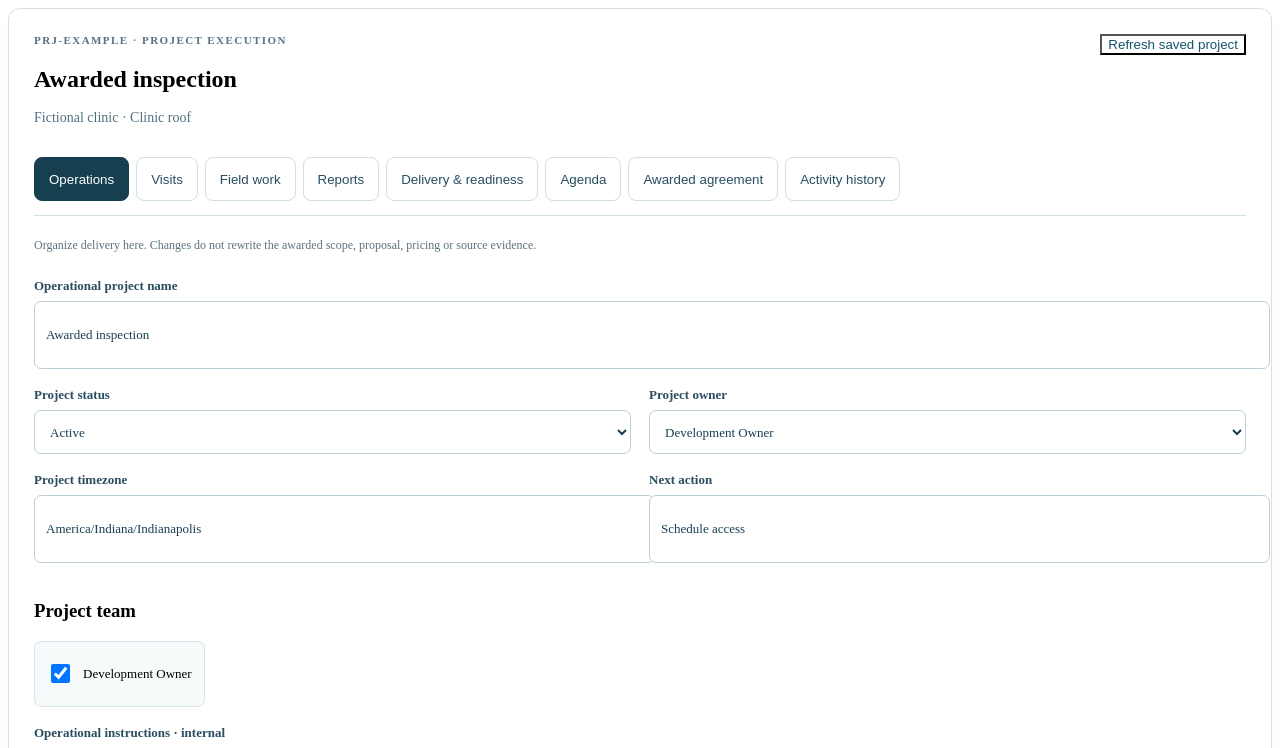
Test case: CPL project execution workspace › loads the real company agenda with timezone-bound date filters
Expected: the field labelled "Operational project name" is shown, left=34, top=301, right=1270, bottom=369
Expected: the button "Refresh saved project" is enabled, left=1100, top=34, right=1246, bottom=55
Click the button "Agenda": (584,179) left=546, top=157, right=622, bottom=201
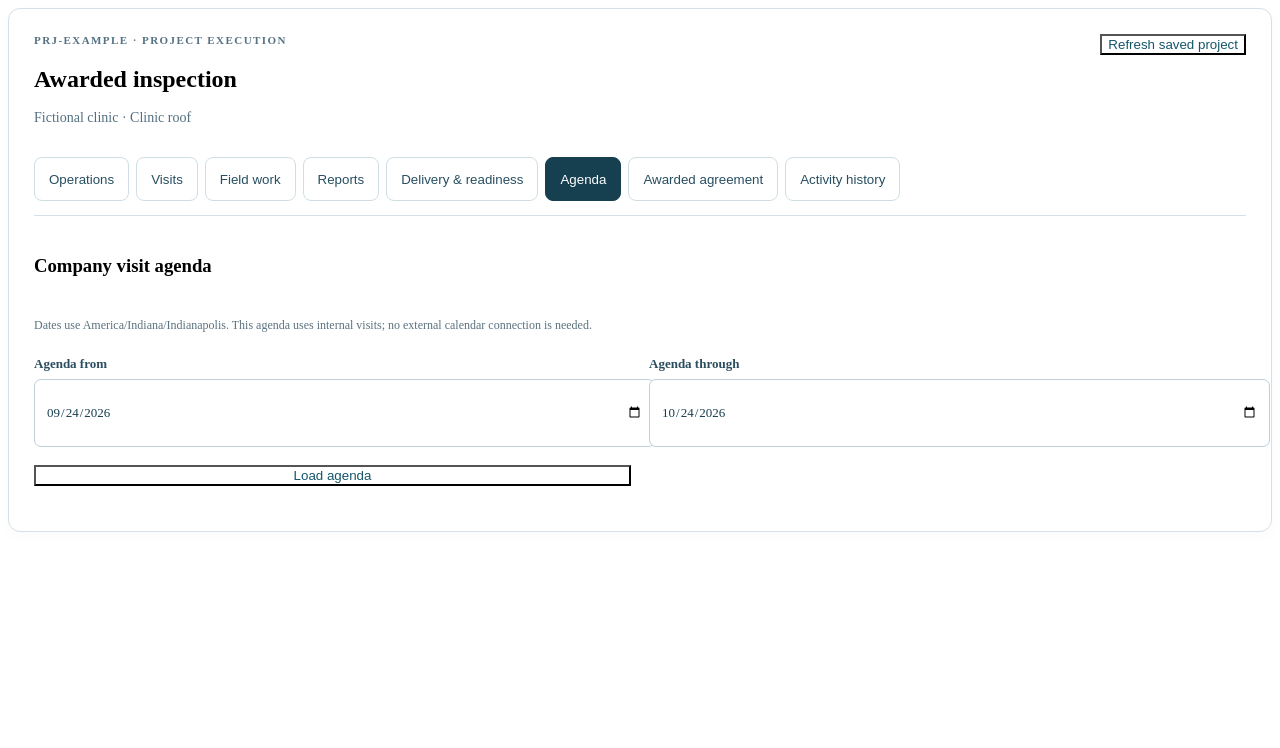
In the date field labelled "Agenda from": (344,412) left=34, top=378, right=655, bottom=446, type "2026-10-05"
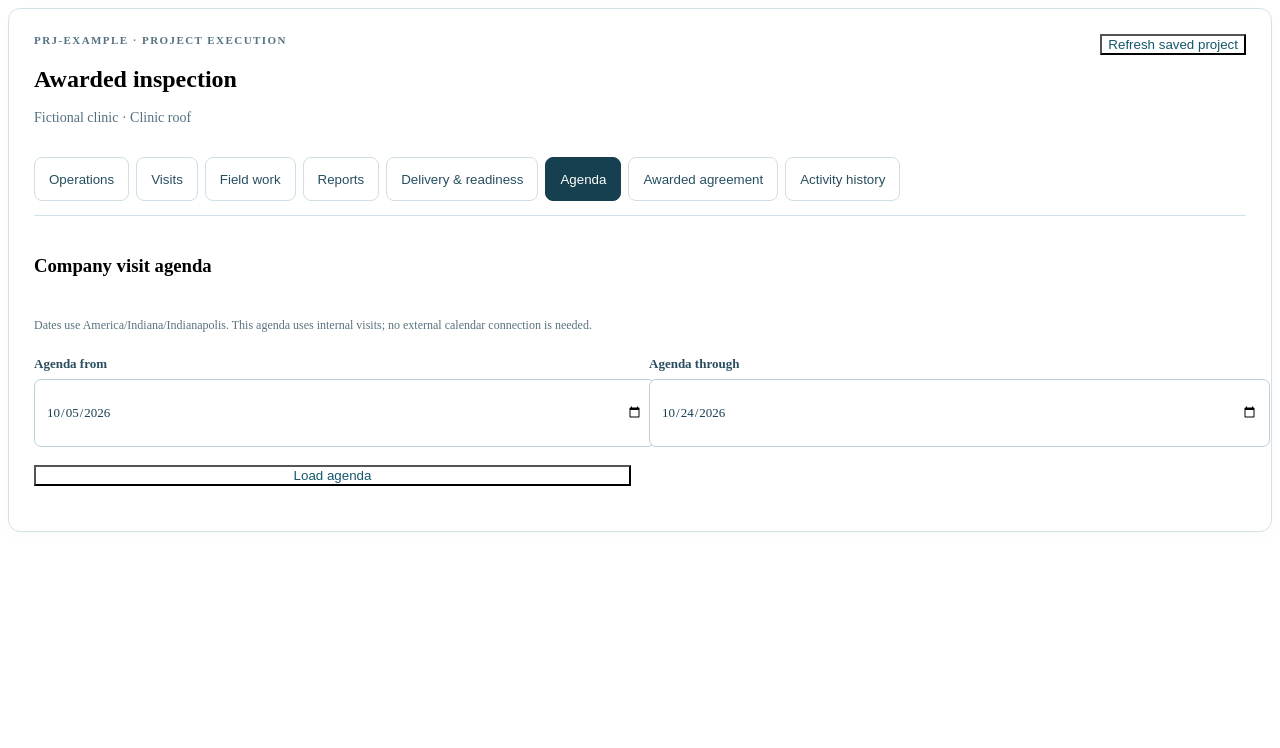
In the date field labelled "Agenda through": (960,412) left=649, top=378, right=1270, bottom=446, type "2026-10-05"
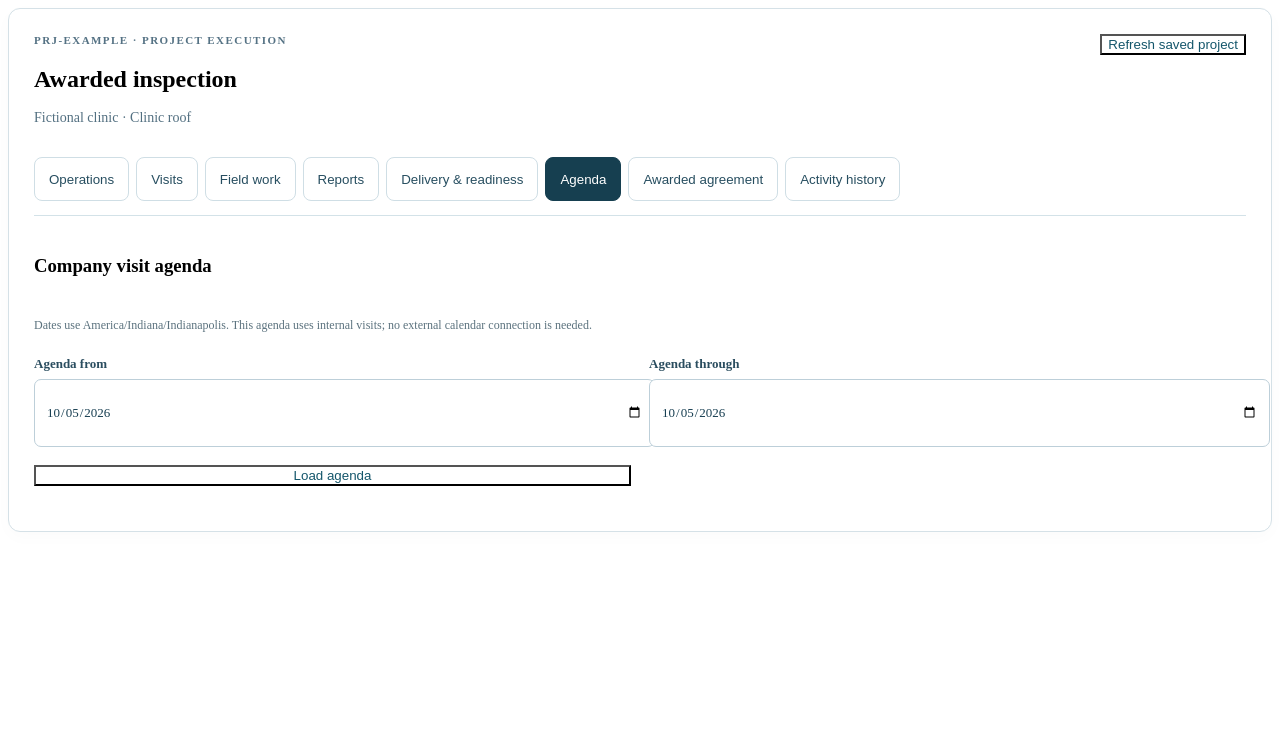
Click the button "Load agenda": (332,475) left=34, top=464, right=631, bottom=486
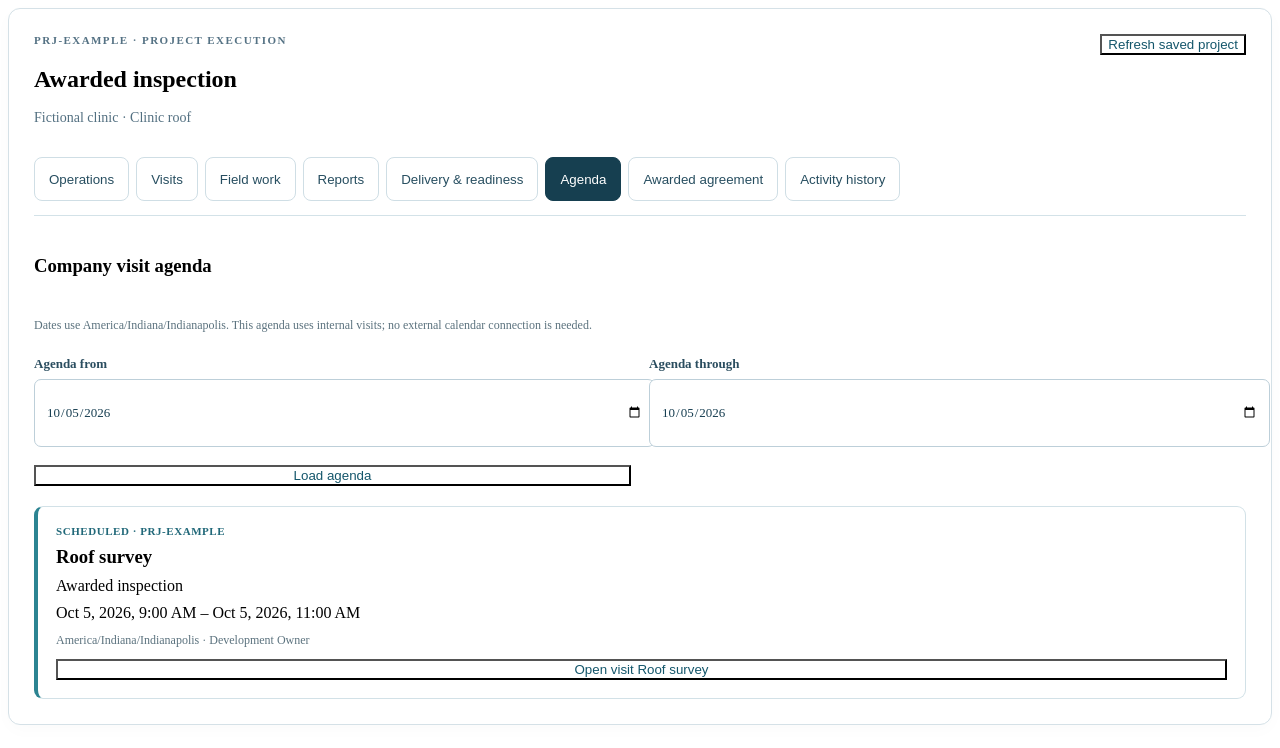
Expected: the button "Open visit Roof survey" is shown, left=56, top=659, right=1227, bottom=680
